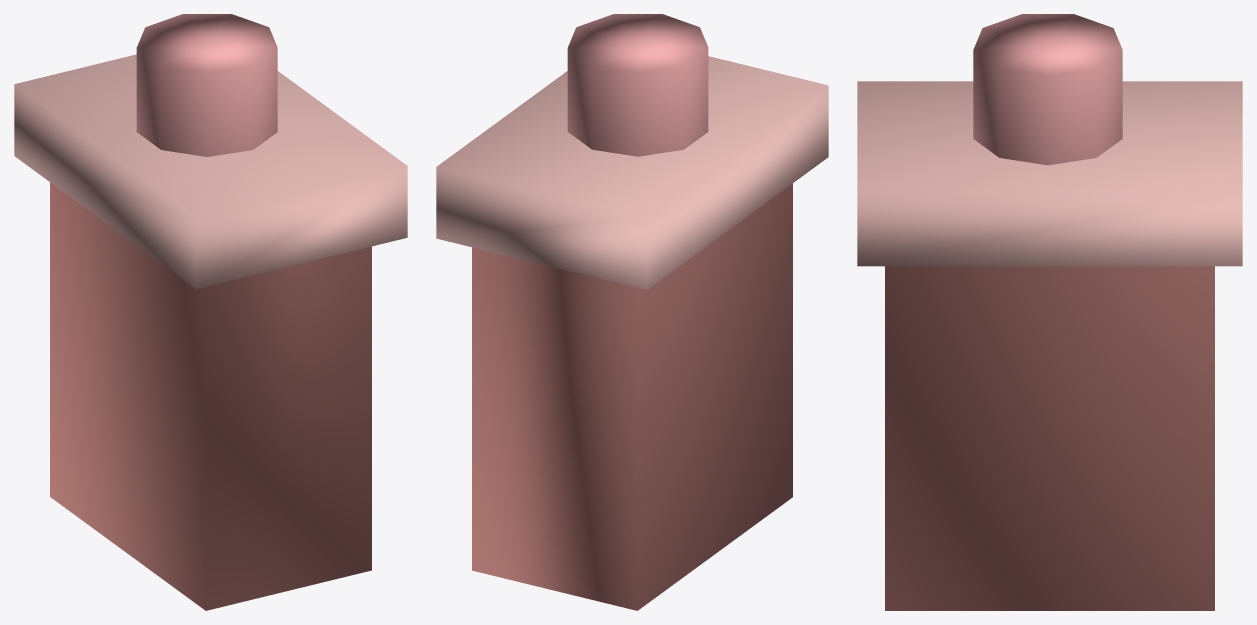
Rendered from Building_B_9.fbx.
3 renders of one model, left to right at view 1: azimuth 30°, elevation 25°; view 2: azimuth 150°, elevation 25°; view 3: azimuth 270°, elevation 25°, orthographic. The views are drawn at different scales.
Visible parts, largest first — view 1: Building_B_9; view 2: Building_B_9; view 3: Building_B_9.
Part boxes in pixels (<box>): Building_B_9: <box>14,14,407,610</box>; Building_B_9: <box>436,14,828,610</box>; Building_B_9: <box>857,14,1242,610</box>.
Size of the model in its own units: 42.31 by 94.4 by 63.15.
